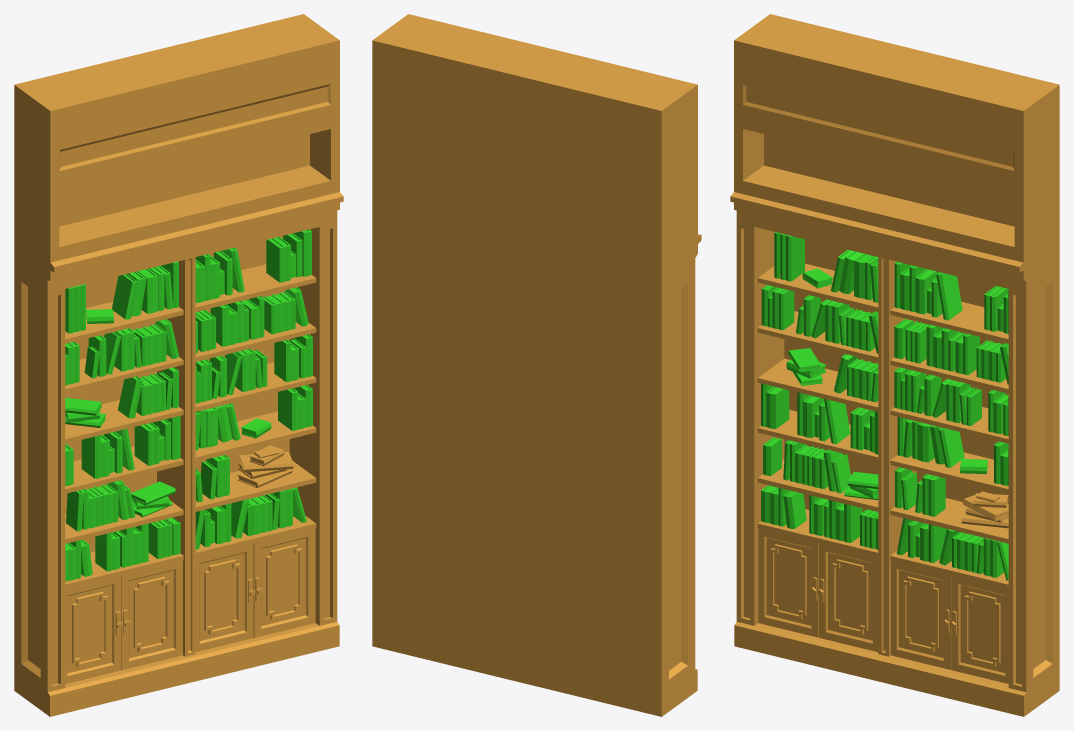
Rendered from Sm_Bookcase_Tall_Modular_Cabinet_Filled_2m_B.fbx.
3 views of the same model, side by side, from view 1: azimuth 30°, elevation 25°; view 2: azimuth 150°, elevation 25°; view 3: azimuth 330°, elevation 25° (orthographic).
Visible parts, largest first — view 1: library-tall-modular-cabinet-filled-2m-b-base, library-tall-modular-cabinet-filled-2m-b-door-r-b, library-tall-modular-cabinet-filled-2m-b-door-r-a, library-tall-modular-cabinet-filled-2m-b-door-l-b, library-tall-modular-cabinet-filled-2m-b-door-l-a; view 2: library-tall-modular-cabinet-filled-2m-b-base; view 3: library-tall-modular-cabinet-filled-2m-b-base, library-tall-modular-cabinet-filled-2m-b-door-l-a, library-tall-modular-cabinet-filled-2m-b-door-l-b, library-tall-modular-cabinet-filled-2m-b-door-r-a, library-tall-modular-cabinet-filled-2m-b-door-r-b.
Part boxes in pixels (x1,y1,x2,y2): library-tall-modular-cabinet-filled-2m-b-base: [14, 14, 343, 716]; library-tall-modular-cabinet-filled-2m-b-door-r-b: [253, 528, 315, 637]; library-tall-modular-cabinet-filled-2m-b-door-r-a: [121, 560, 182, 670]; library-tall-modular-cabinet-filled-2m-b-door-l-b: [195, 543, 255, 651]; library-tall-modular-cabinet-filled-2m-b-door-l-a: [65, 575, 122, 683]; library-tall-modular-cabinet-filled-2m-b-base: [372, 14, 701, 716]; library-tall-modular-cabinet-filled-2m-b-base: [730, 14, 1059, 716]; library-tall-modular-cabinet-filled-2m-b-door-l-a: [758, 528, 818, 637]; library-tall-modular-cabinet-filled-2m-b-door-l-b: [891, 560, 951, 669]; library-tall-modular-cabinet-filled-2m-b-door-r-a: [817, 543, 878, 651]; library-tall-modular-cabinet-filled-2m-b-door-r-b: [949, 575, 1008, 683].
Bounding box in the file's own units: 2 × 4 × 0.4778.
